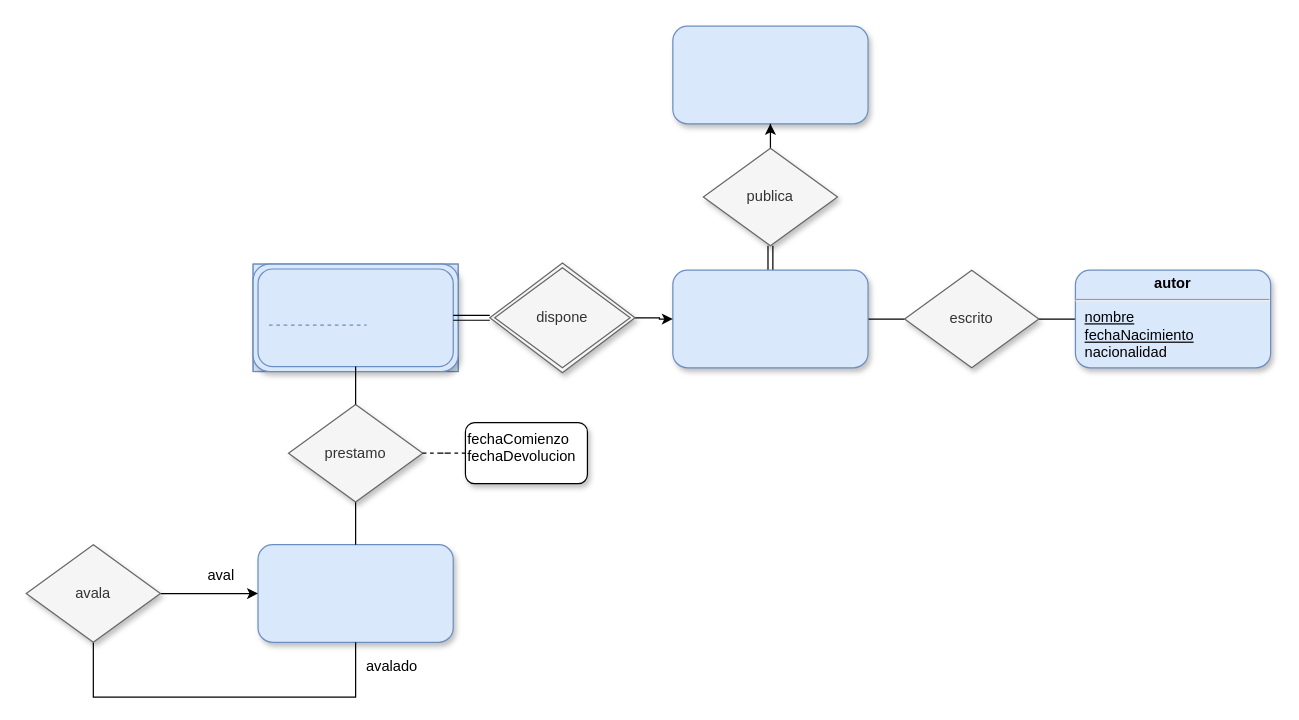
This 1299x720 diagram has some shape labels left out. Here are the shapes that lost their labels. From the top down, the centre of each, then its label:
(771,76): editorial nombre paisRegistro
(355,317): ejemplar numEjemplar formato
(771,320): libro idLibro titulo paisOrigen
(356,595): socio rfc nombreSocio {numeroTel}
